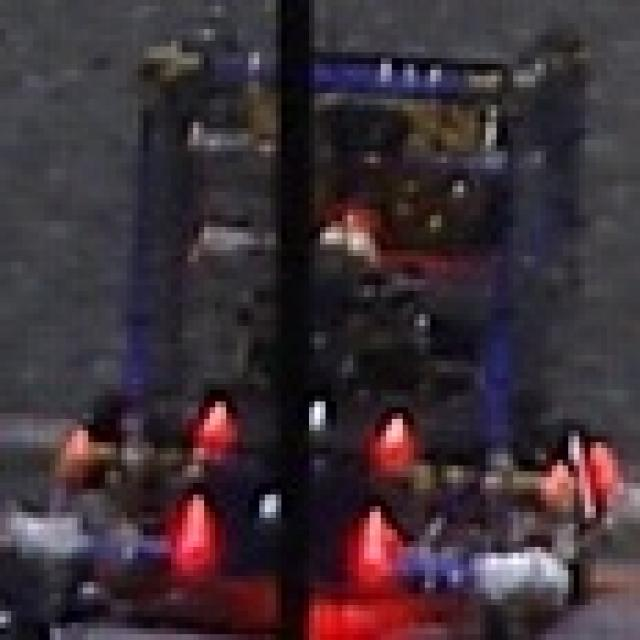R1: (513, 396, 640, 530)
